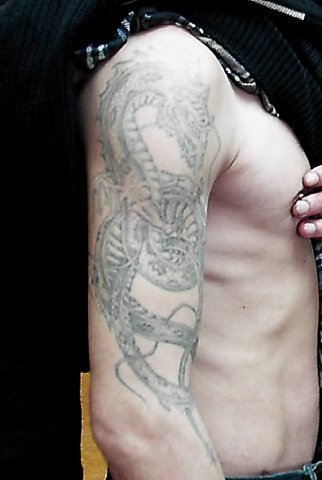tatu6_drakon: (83, 42, 244, 480)
